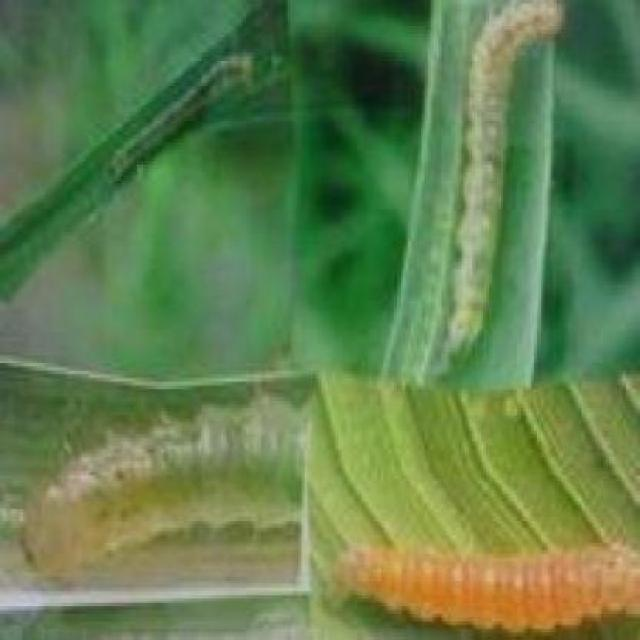leaf-folder: (40, 385, 294, 637), (418, 2, 576, 363), (334, 466, 640, 640), (92, 12, 248, 216)
